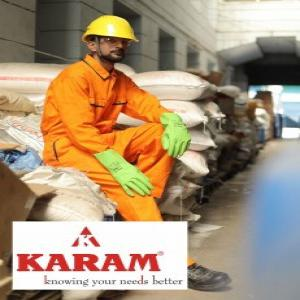yellow: (84, 15, 137, 63)
